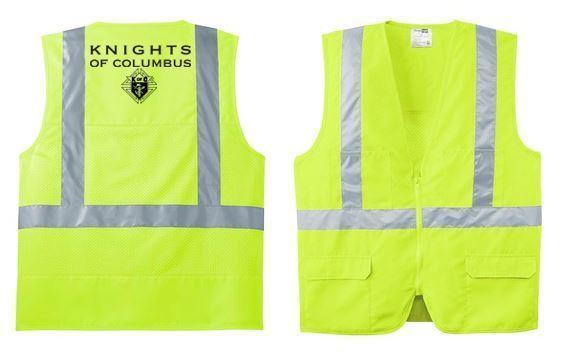vest: (12, 21, 266, 333), (295, 19, 540, 332)
